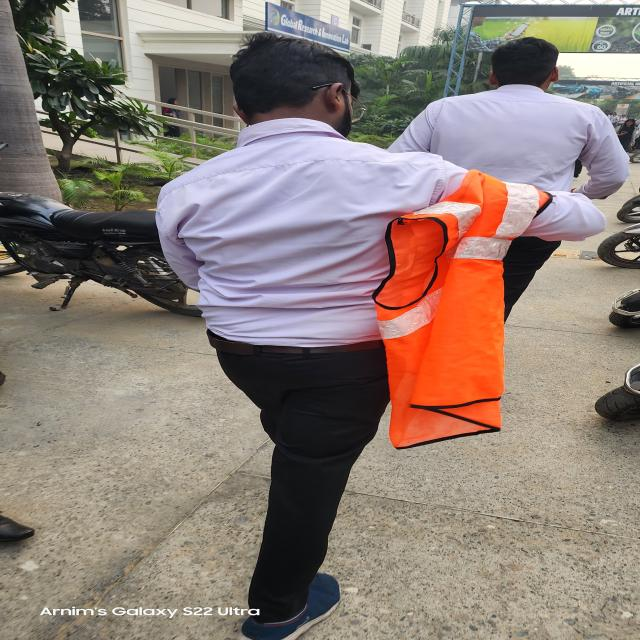unsafe: (152, 35, 549, 640), (388, 35, 617, 355)
